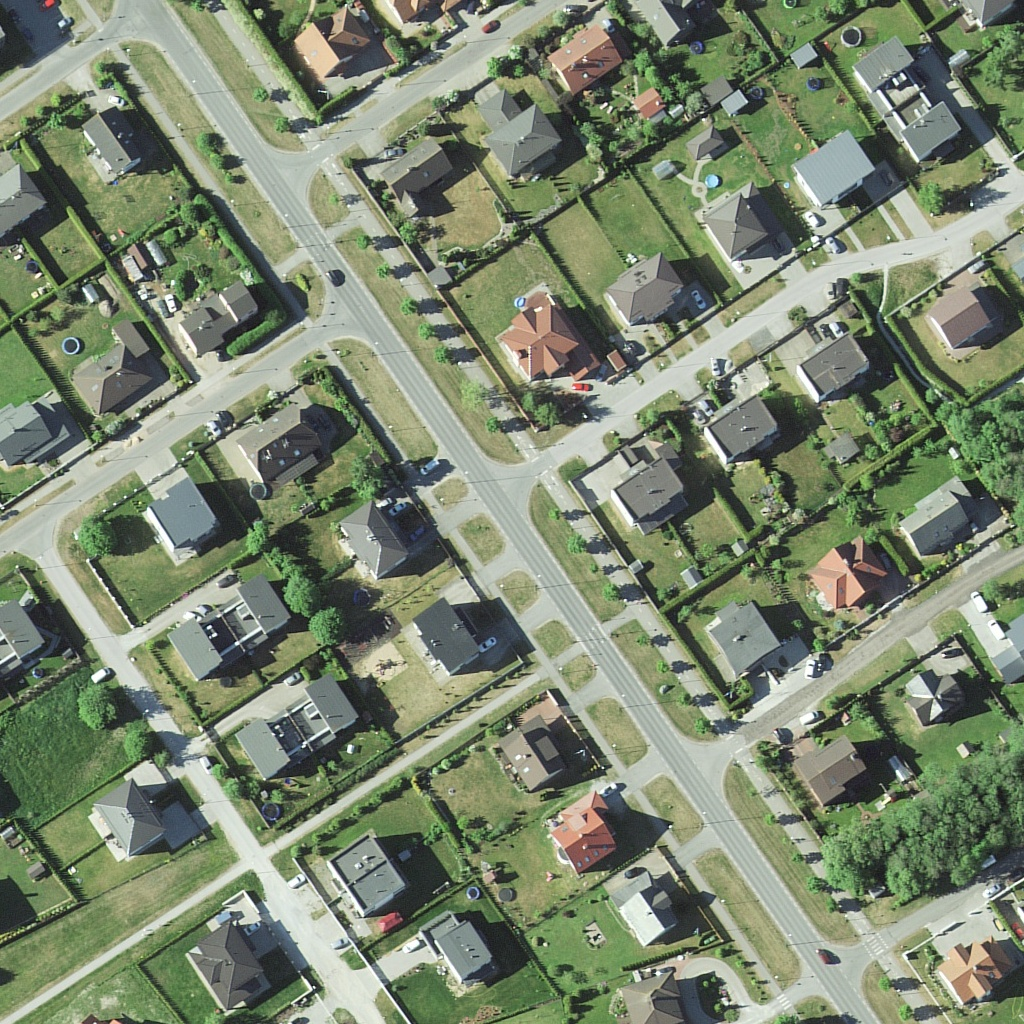building: (856, 33, 965, 169), (229, 669, 357, 781), (171, 576, 289, 684), (190, 917, 271, 1018), (331, 830, 409, 918), (241, 405, 323, 485), (501, 296, 580, 379), (63, 345, 162, 411), (549, 19, 631, 98), (416, 908, 498, 984), (498, 712, 569, 799), (485, 96, 561, 176), (790, 128, 869, 204), (609, 457, 692, 526), (343, 498, 409, 584), (814, 536, 882, 619), (607, 255, 688, 321), (292, 10, 381, 70), (896, 493, 977, 557), (787, 735, 863, 803), (78, 105, 145, 182), (1, 399, 71, 470), (714, 601, 781, 675), (95, 784, 165, 853), (931, 286, 996, 358), (414, 599, 478, 672), (156, 476, 211, 559), (383, 131, 449, 199), (180, 288, 251, 351), (554, 796, 615, 869), (803, 335, 868, 402), (623, 871, 682, 941), (714, 399, 777, 464), (707, 195, 769, 257), (941, 949, 1003, 1005), (1, 165, 47, 235), (620, 973, 683, 1024), (1, 612, 44, 679), (910, 665, 957, 724)
